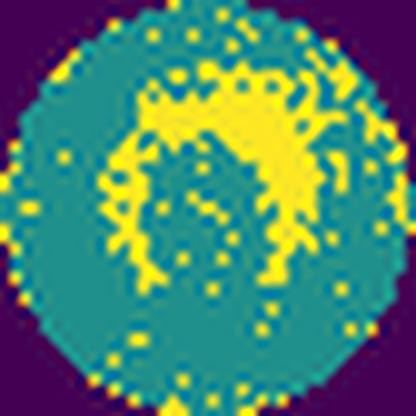Donut: (93, 61, 354, 300)
